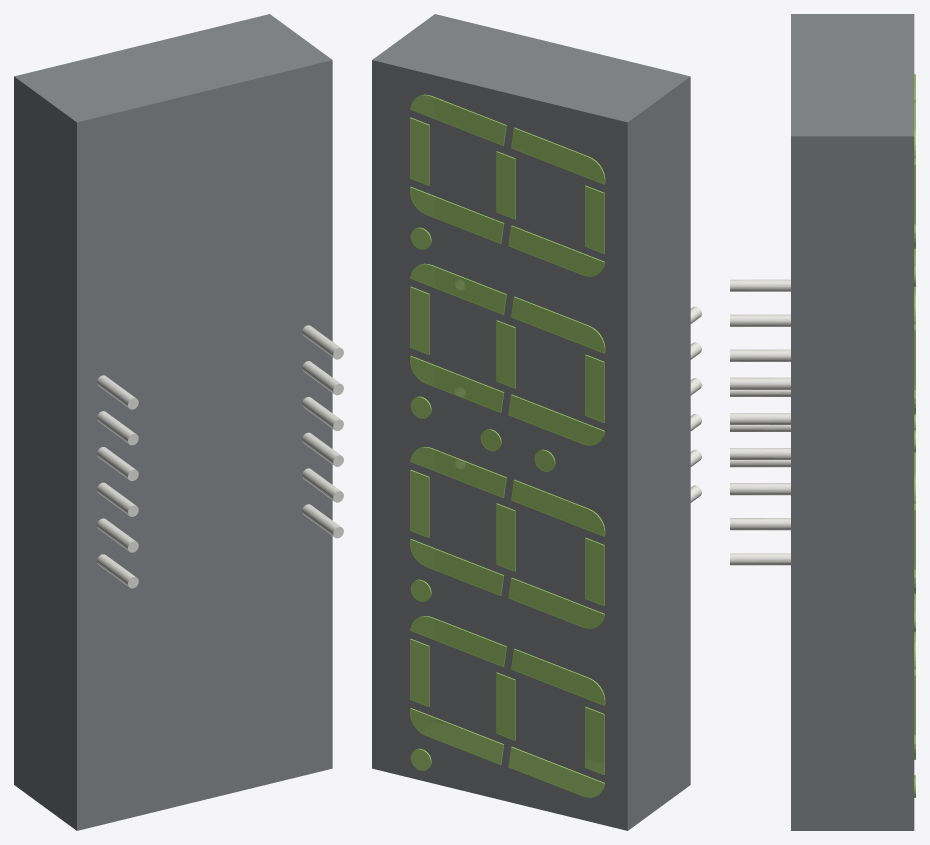
The model's file is CA56-12CGKWA.glb.
3 views of the same model, side by side, from view 1: azimuth 30°, elevation 25°; view 2: azimuth 150°, elevation 25°; view 3: azimuth 270°, elevation 25° (orthographic).
Parts seen in each view (by area): view 1: Shape_IndexedFaceSet.193, Shape_IndexedFaceSet.005, Shape_IndexedFaceSet.003, Shape_IndexedFaceSet.157, Shape_IndexedFaceSet.153; view 2: Shape_IndexedFaceSet.002, Shape_IndexedFaceSet.005, Shape_IndexedFaceSet.003, Shape_IndexedFaceSet.157, Shape_IndexedFaceSet.153, Shape_IndexedFaceSet.174, Shape_IndexedFaceSet.184, Shape_IndexedFaceSet.170, Shape_IndexedFaceSet.161, Shape_IndexedFaceSet.181, Shape_IndexedFaceSet.183, Shape_IndexedFaceSet.190 (+21 smaller); view 3: Shape_IndexedFaceSet.004, Shape_IndexedFaceSet.156, Shape_IndexedFaceSet.003, Shape_IndexedFaceSet.153, Shape_IndexedFaceSet.194, Shape_IndexedFaceSet.195, Shape_IndexedFaceSet.196, Shape_IndexedFaceSet.200, Shape_IndexedFaceSet.203, Shape_IndexedFaceSet.204, Shape_IndexedFaceSet.205, Shape_IndexedFaceSet.201 (+4 smaller).
Boxes of the visible parts, left/top/right/bottom form: Shape_IndexedFaceSet.193: left=77, top=64, right=332, bottom=826; Shape_IndexedFaceSet.005: left=14, top=76, right=76, bottom=830; Shape_IndexedFaceSet.003: left=14, top=14, right=331, bottom=122; Shape_IndexedFaceSet.157: left=61, top=142, right=76, bottom=810; Shape_IndexedFaceSet.153: left=88, top=55, right=315, bottom=118; Shape_IndexedFaceSet.002: left=372, top=60, right=627, bottom=830; Shape_IndexedFaceSet.005: left=627, top=77, right=690, bottom=830; Shape_IndexedFaceSet.003: left=372, top=14, right=690, bottom=122; Shape_IndexedFaceSet.157: left=675, top=96, right=690, bottom=765; Shape_IndexedFaceSet.153: left=446, top=18, right=673, bottom=80; Shape_IndexedFaceSet.174: left=511, top=297, right=604, bottom=353; Shape_IndexedFaceSet.184: left=511, top=128, right=604, bottom=184; Shape_IndexedFaceSet.170: left=410, top=264, right=505, bottom=314; Shape_IndexedFaceSet.161: left=511, top=480, right=604, bottom=536; Shape_IndexedFaceSet.181: left=508, top=578, right=604, bottom=628; Shape_IndexedFaceSet.183: left=511, top=649, right=604, bottom=705; Shape_IndexedFaceSet.190: left=508, top=747, right=604, bottom=797; Shape_IndexedFaceSet.004: left=791, top=136, right=914, bottom=830; Shape_IndexedFaceSet.156: left=791, top=156, right=821, bottom=811; Shape_IndexedFaceSet.003: left=791, top=14, right=914, bottom=136; Shape_IndexedFaceSet.153: left=791, top=21, right=821, bottom=128; Shape_IndexedFaceSet.194: left=730, top=483, right=790, bottom=495; Shape_IndexedFaceSet.195: left=730, top=553, right=790, bottom=565; Shape_IndexedFaceSet.196: left=730, top=518, right=790, bottom=530; Shape_IndexedFaceSet.200: left=730, top=349, right=790, bottom=361; Shape_IndexedFaceSet.203: left=730, top=314, right=790, bottom=326; Shape_IndexedFaceSet.204: left=730, top=377, right=790, bottom=389; Shape_IndexedFaceSet.205: left=730, top=279, right=790, bottom=291; Shape_IndexedFaceSet.201: left=730, top=448, right=790, bottom=459.
Size of the model in its own units: 7.48 by 19.8 by 4.8.
